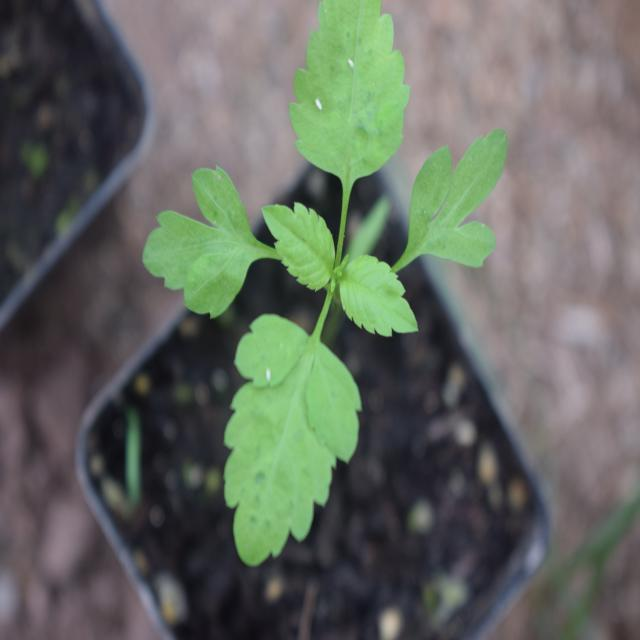Bidens pilosa: (141, 5, 507, 572)
